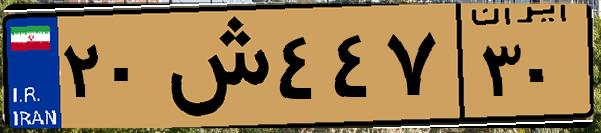0: (525, 38, 570, 115), (110, 28, 158, 98)
2: (57, 26, 110, 100)
3: (475, 38, 525, 113)
4: (270, 28, 330, 110), (330, 28, 385, 110)
7: (385, 28, 445, 110)
ش: (158, 12, 270, 120)
